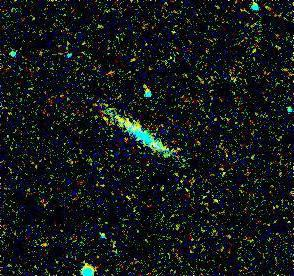star: (131, 72, 161, 102)
